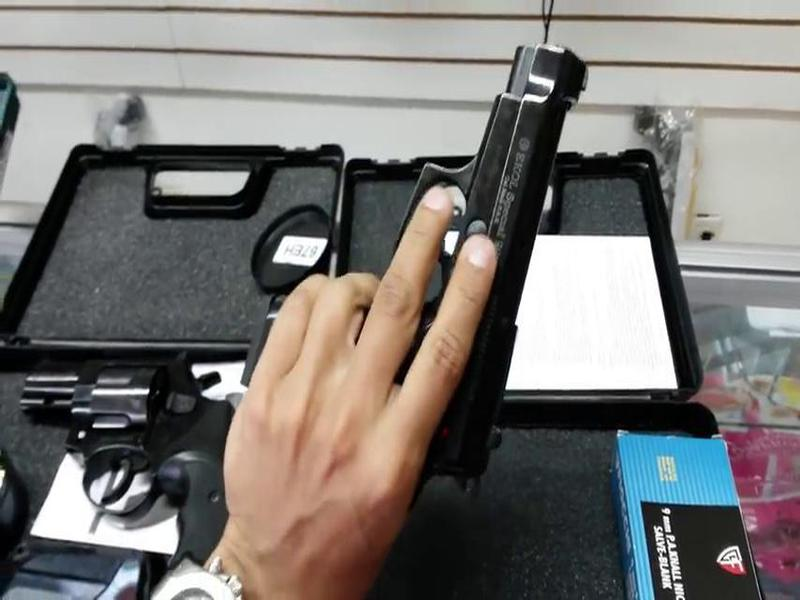Pistola: (307, 21, 624, 502)
